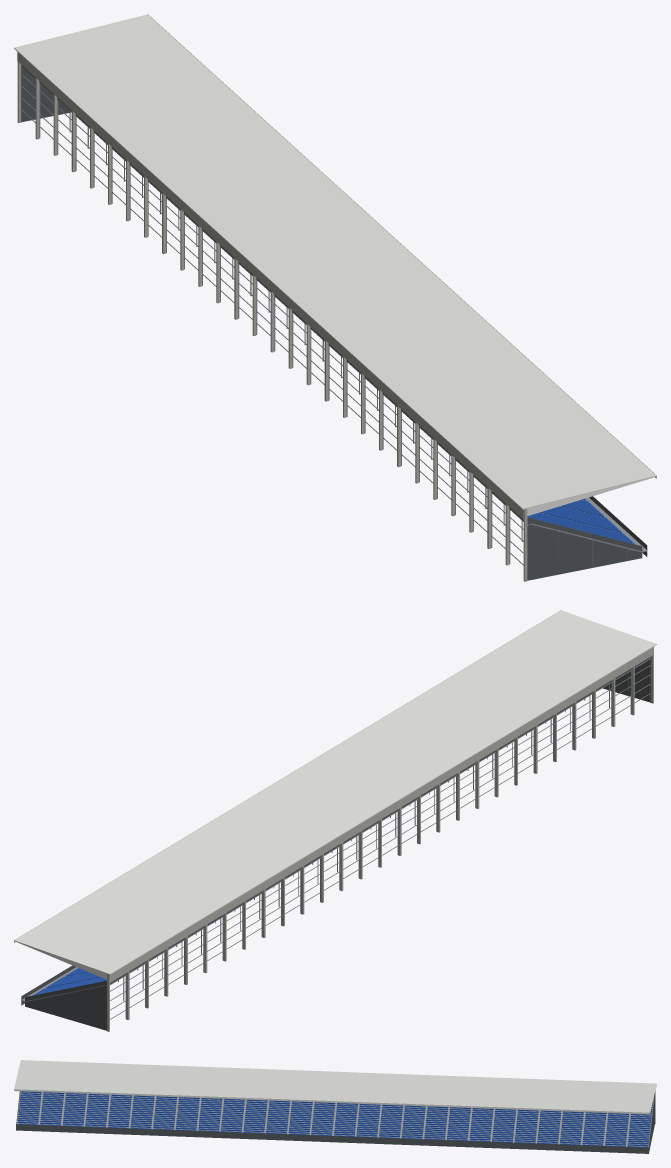
Rendered from mza_stand_laterale_destra.glb.
The picture shows the model from 3 angles, top to bottom: view 1: azimuth 30°, elevation 25°; view 2: azimuth 150°, elevation 25°; view 3: azimuth 270°, elevation 25°; orthographic projection. The views are drawn at different scales.
Parts seen in each view (by area): view 1: monza-laterale-destra; view 2: monza-laterale-destra; view 3: monza-laterale-destra.
Boxes of the visible parts, x1,y1,x2,y2 form: monza-laterale-destra: (14, 14, 656, 581); monza-laterale-destra: (14, 610, 656, 1031); monza-laterale-destra: (14, 1060, 656, 1153).
Size of the model in its own units: 46.42 by 16.55 by 223.
